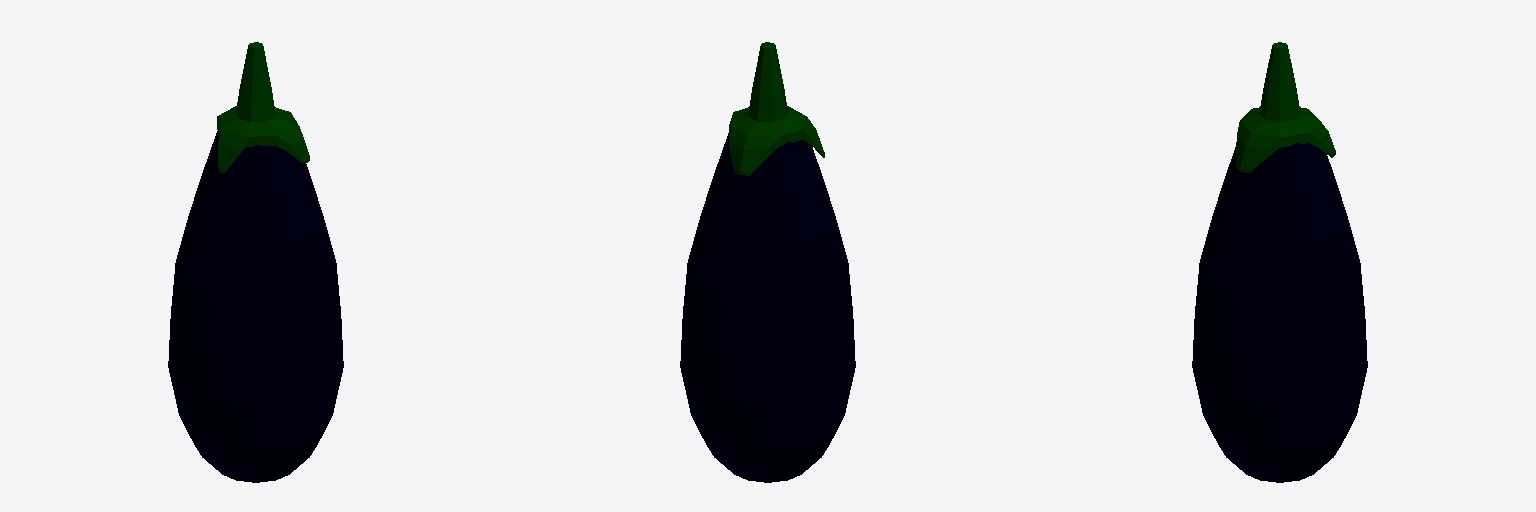
The model's file is EggPlant.obj.
3 views of the same model, side by side, from view 1: azimuth 30°, elevation 25°; view 2: azimuth 150°, elevation 25°; view 3: azimuth 270°, elevation 25° (orthographic).
Visible parts, largest first — view 1: EggPlant_Cylinder.008; view 2: EggPlant_Cylinder.008; view 3: EggPlant_Cylinder.008.
Part boxes in pixels (x1,y1,x2,y2): EggPlant_Cylinder.008: (168, 42, 343, 482); EggPlant_Cylinder.008: (680, 42, 855, 482); EggPlant_Cylinder.008: (1192, 42, 1367, 482).
Bounding box in the file's own units: 1.87 × 4.95 × 1.87.